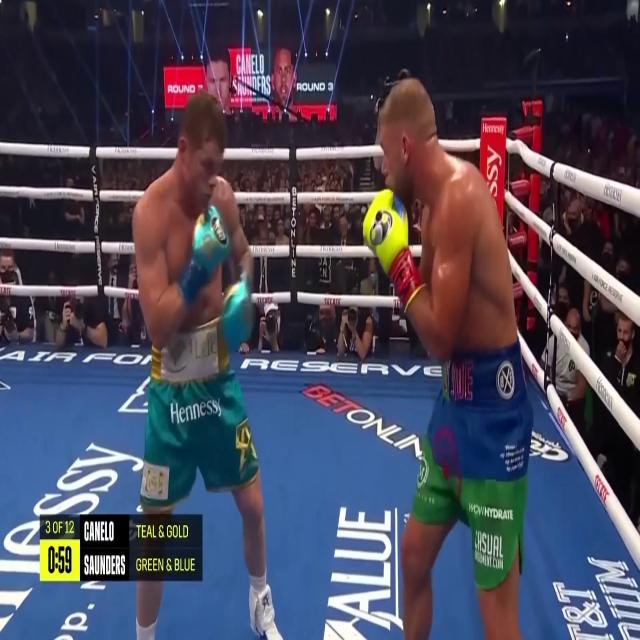boxer_1: (380, 78, 518, 361)
boxer_2: (132, 89, 251, 351)
gloves_1: (364, 188, 424, 308)
gloves_2: (178, 204, 231, 305), (219, 273, 253, 350)
